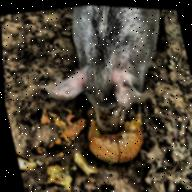boar: (19, 1, 192, 150)
